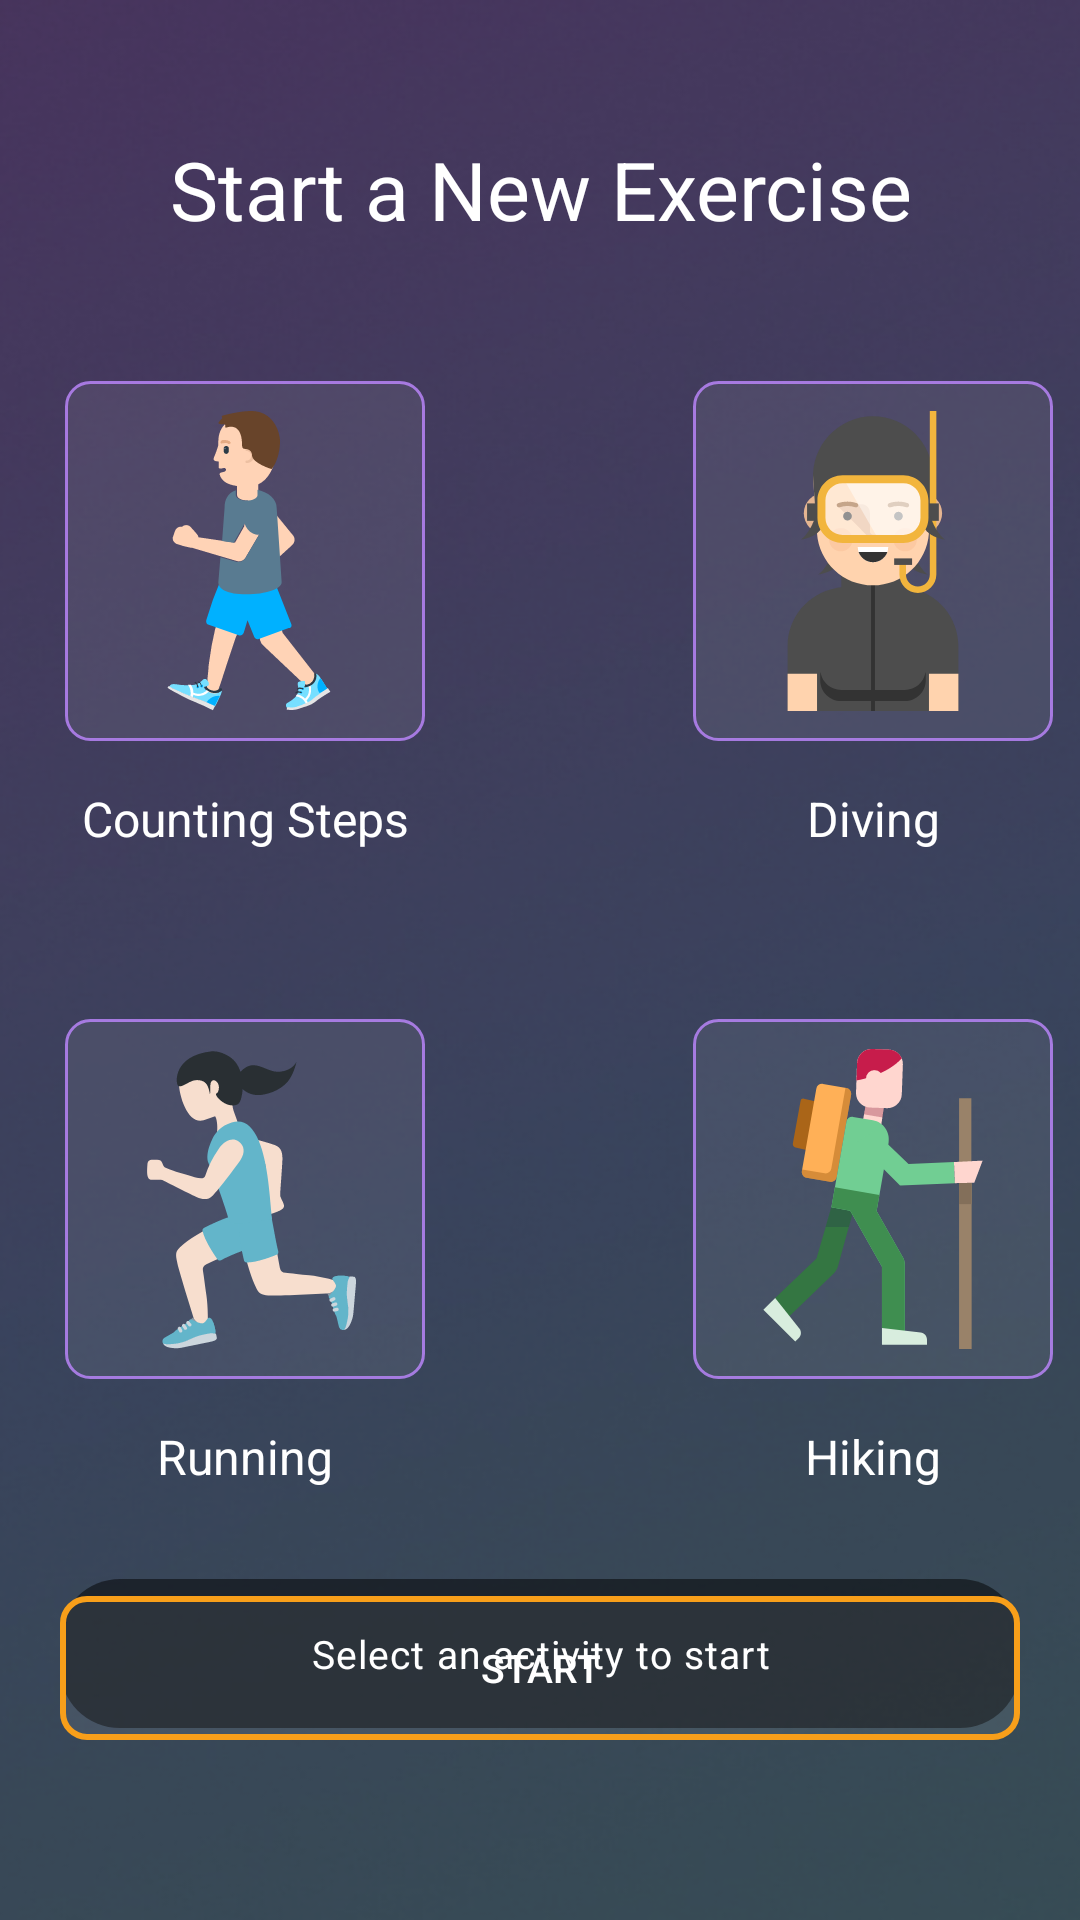

Screen size 1080px x 1920px. Icon name, then its box in pixels as (x1, y1, x2, y2):
walking: (65, 381, 425, 741)
